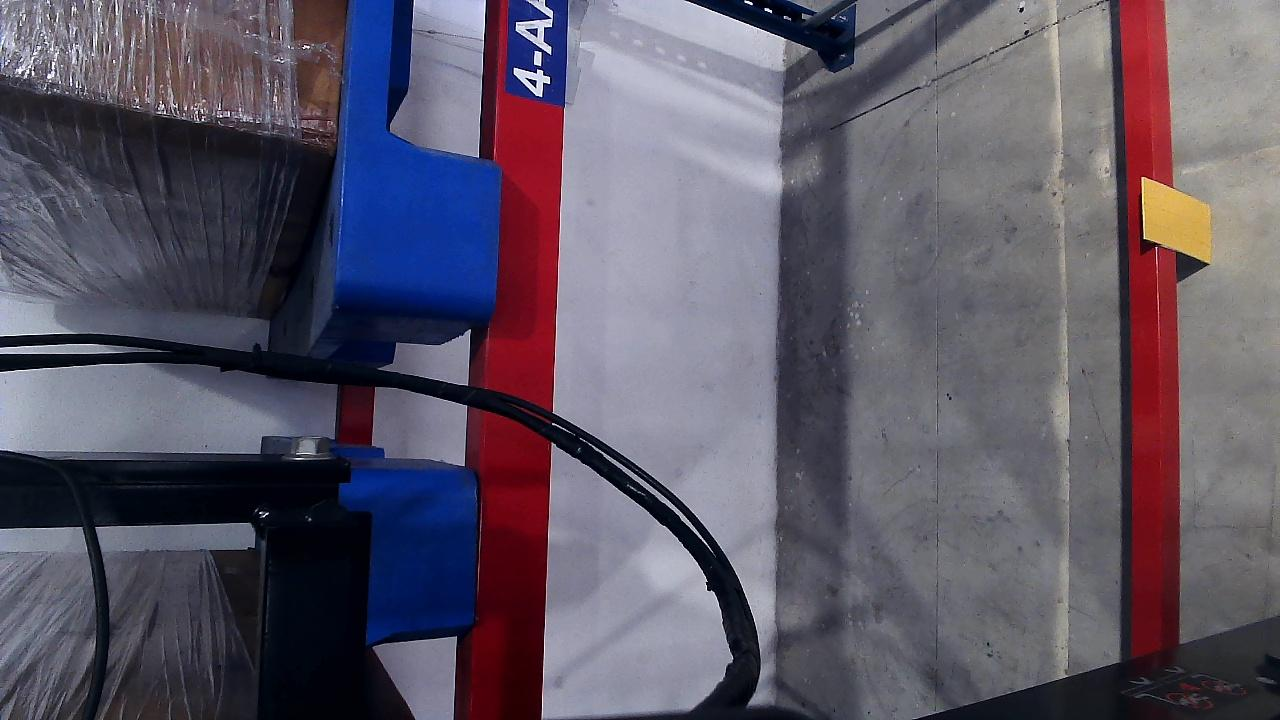h_rack: (495, 0, 544, 720), (1151, 0, 1178, 656)
orange_strip: (1140, 176, 1211, 264)
small_pallet: (334, 0, 497, 307)
